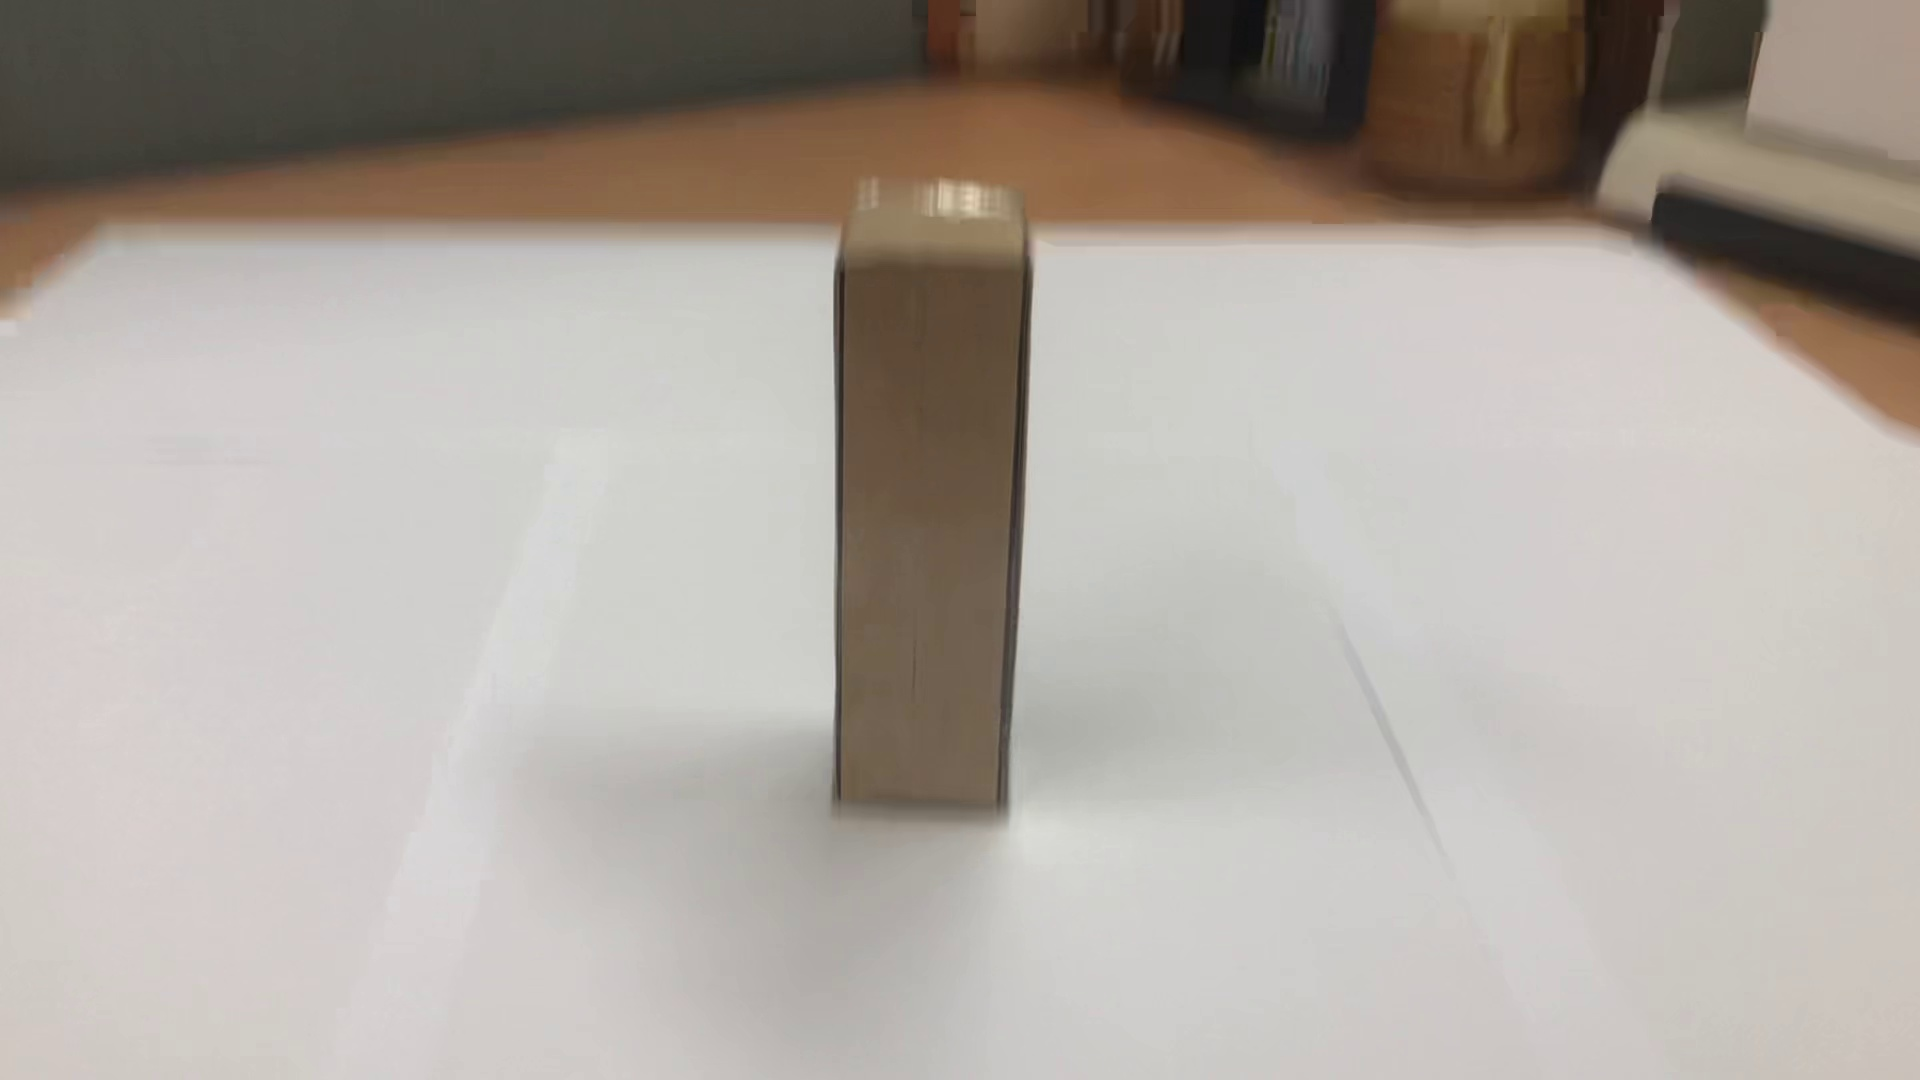box: (808, 167, 1047, 843)
